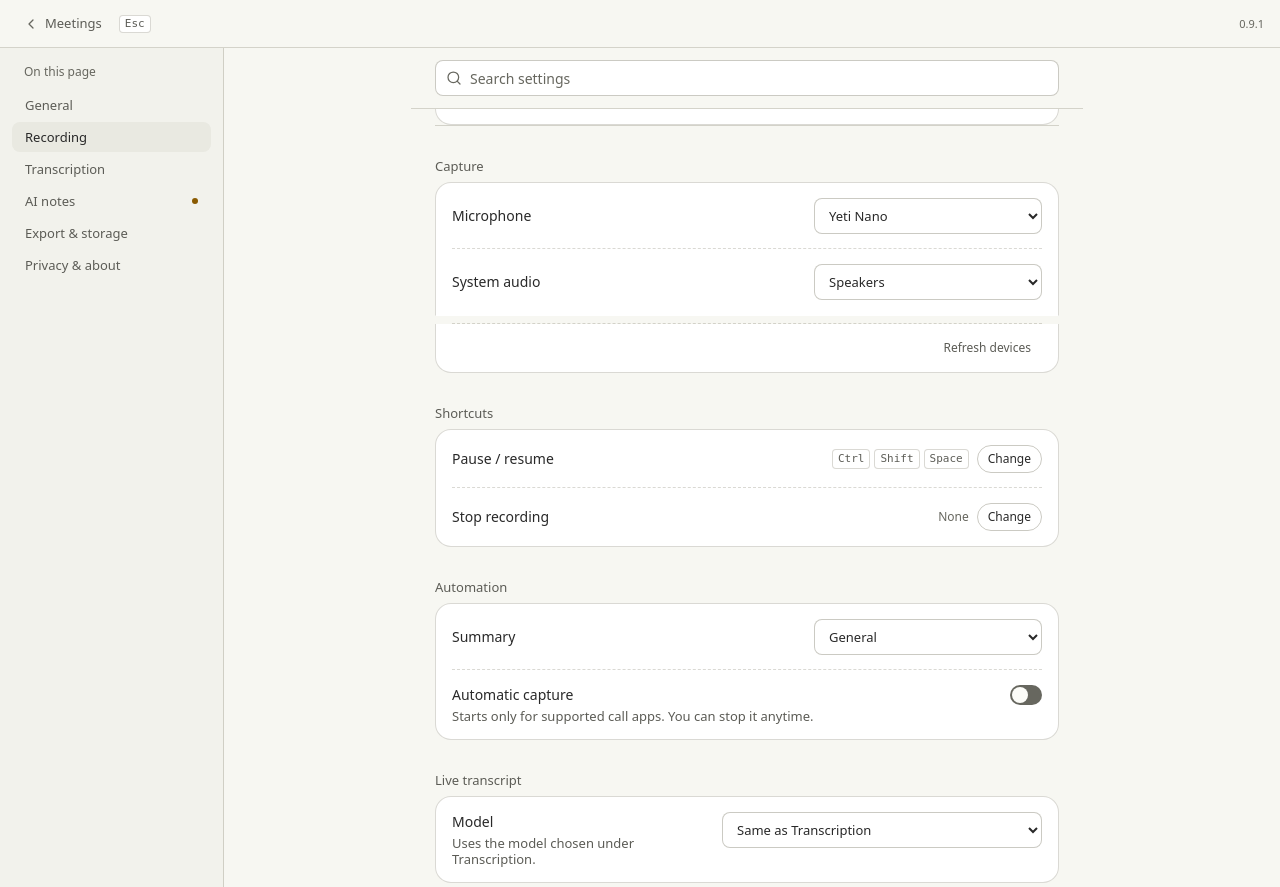
Test: refuses a key the backend cannot register and says which keys work
The image size is (1280, 887).
(page scrolled)
Click the button with aria-label "Change pause / resume shortcut". click: click(1009, 459)
box: left=977, top=445, right=1042, bottom=473
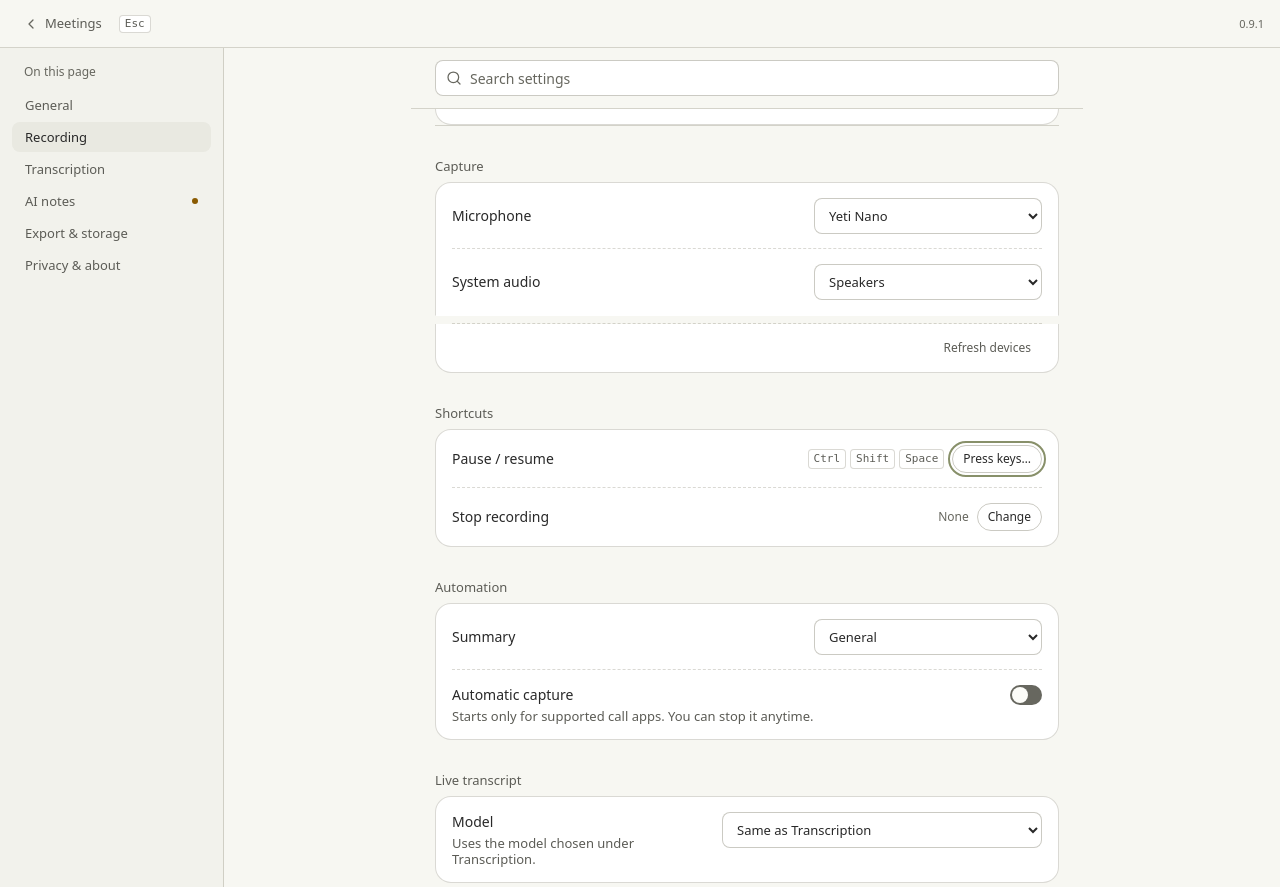
Note: Period has no name the backend registers, so it is refused here, not after a save.
Press . in the button with aria-label "Change pause / resume shortcut", box left=952, top=445, right=1042, bottom=473
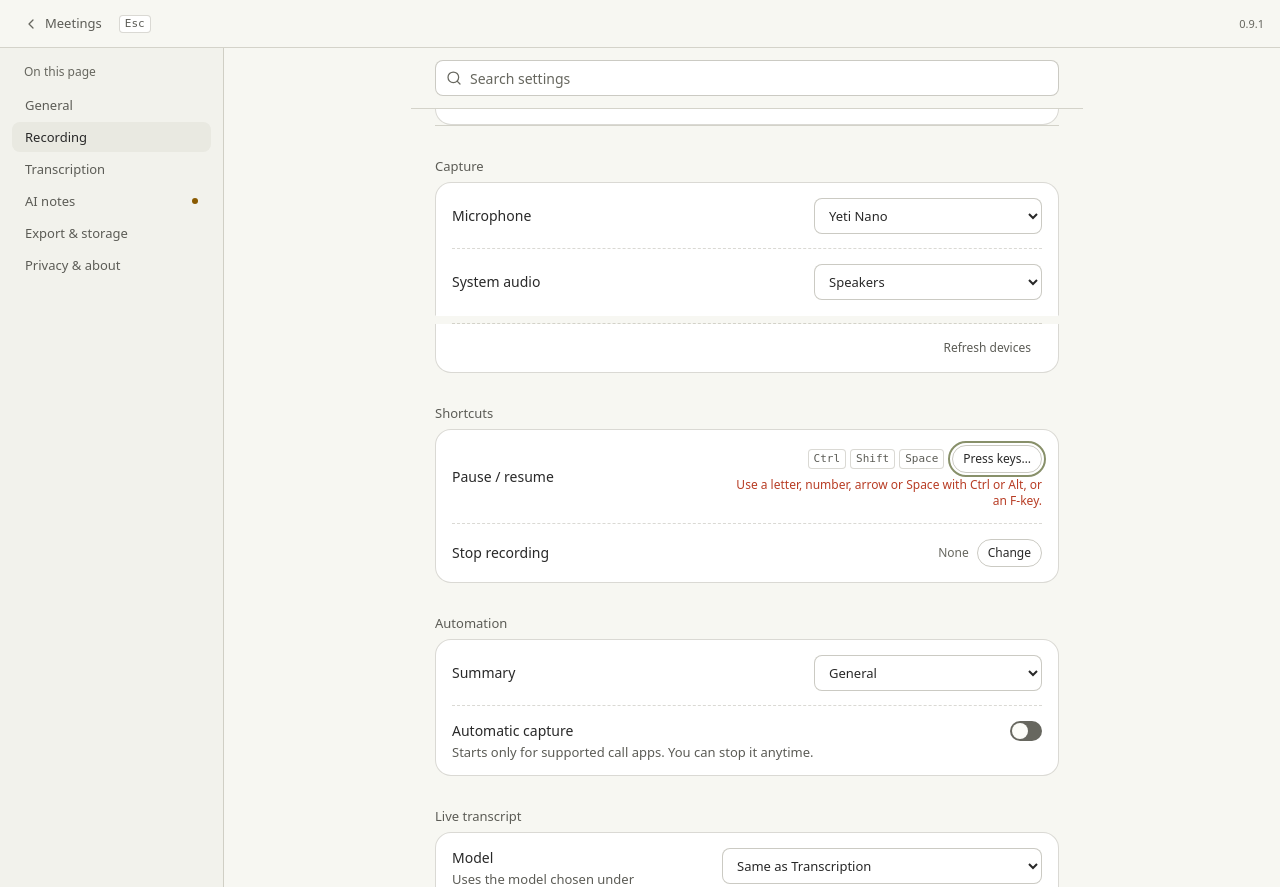
Expected: the text "Use a letter, number, arrow or Space with Ctrl or Alt, or an F-key." is shown, left=722, top=477, right=1042, bottom=509
